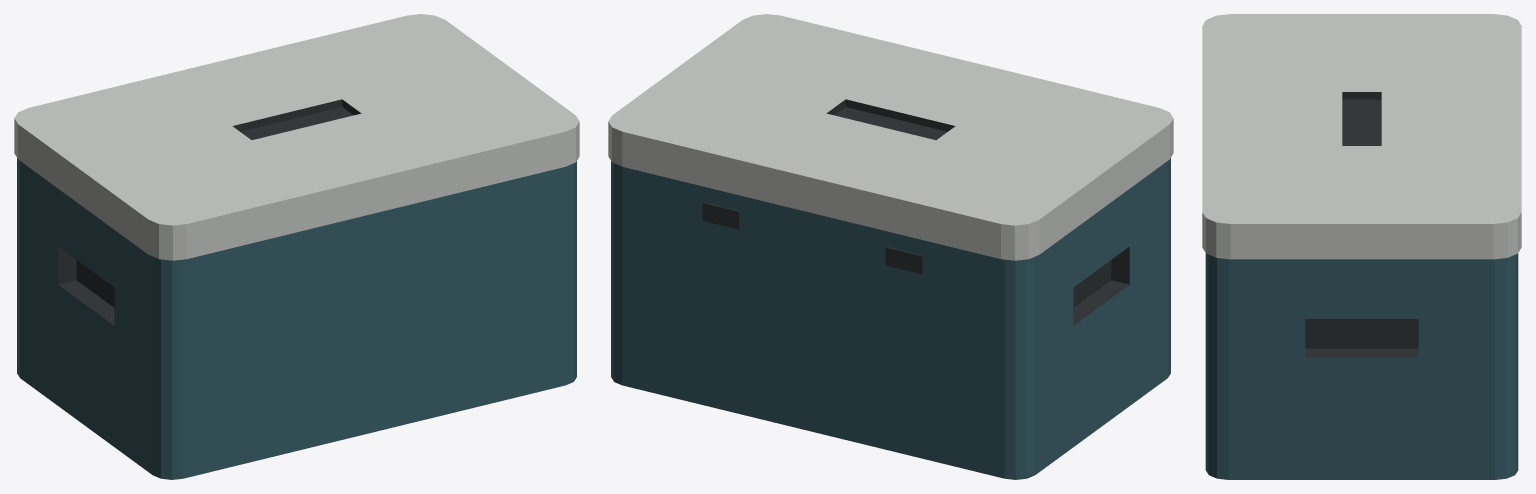
Rendered from cooler_box_large.glb.
3 renders of one model, left to right at view 1: azimuth 30°, elevation 25°; view 2: azimuth 150°, elevation 25°; view 3: azimuth 270°, elevation 25°, orthographic.
Parts seen in each view (by area): view 1: cooler_box_large; view 2: cooler_box_large; view 3: cooler_box_large.
Boxes of the visible parts, box(x1,y1,x2,y2) form: cooler_box_large: box(14, 14, 579, 479); cooler_box_large: box(608, 14, 1173, 479); cooler_box_large: box(1202, 14, 1521, 479).
Bounding box in the file's own units: 0.7 × 0.4 × 0.45.
